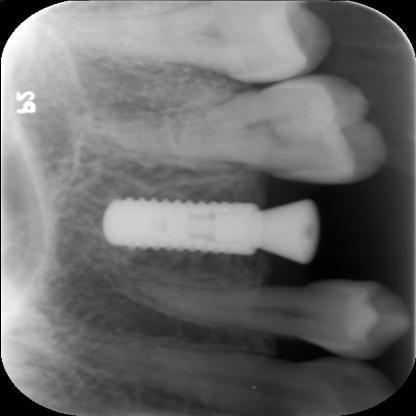ITI: (101, 195, 264, 254)
